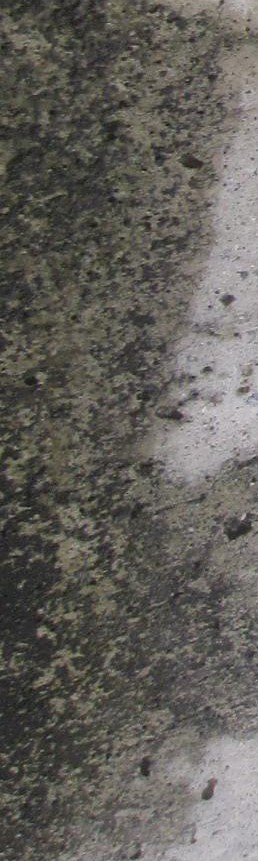Corrosion: (1, 1, 258, 861)
